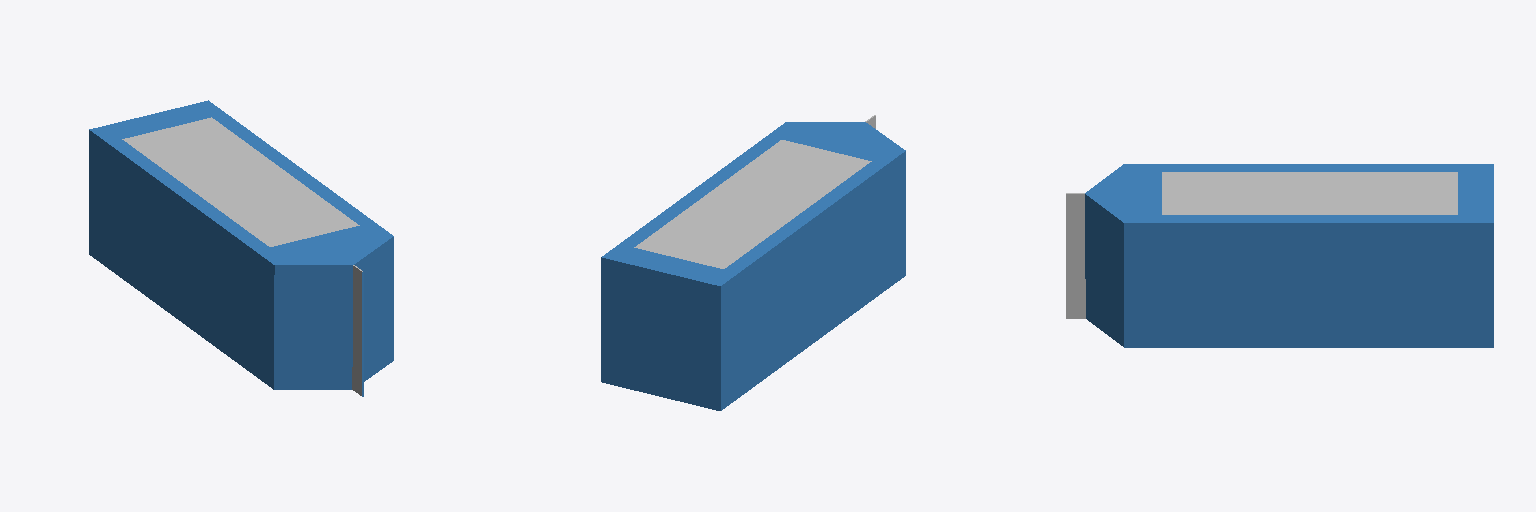
Rendered from milk.obj.
3 views of the same model, side by side, from view 1: azimuth 30°, elevation 25°; view 2: azimuth 150°, elevation 25°; view 3: azimuth 270°, elevation 25° (orthographic).
Visible parts, largest first — view 1: milk_Cube.003; view 2: milk_Cube.003; view 3: milk_Cube.003.
Part boxes in pixels (left/top/right/bottom): milk_Cube.003: left=89, top=100, right=393, bottom=396; milk_Cube.003: left=601, top=115, right=905, bottom=410; milk_Cube.003: left=1066, top=164, right=1493, bottom=347.
Size of the model in its own units: 0.071 by 0.071 by 0.2205.